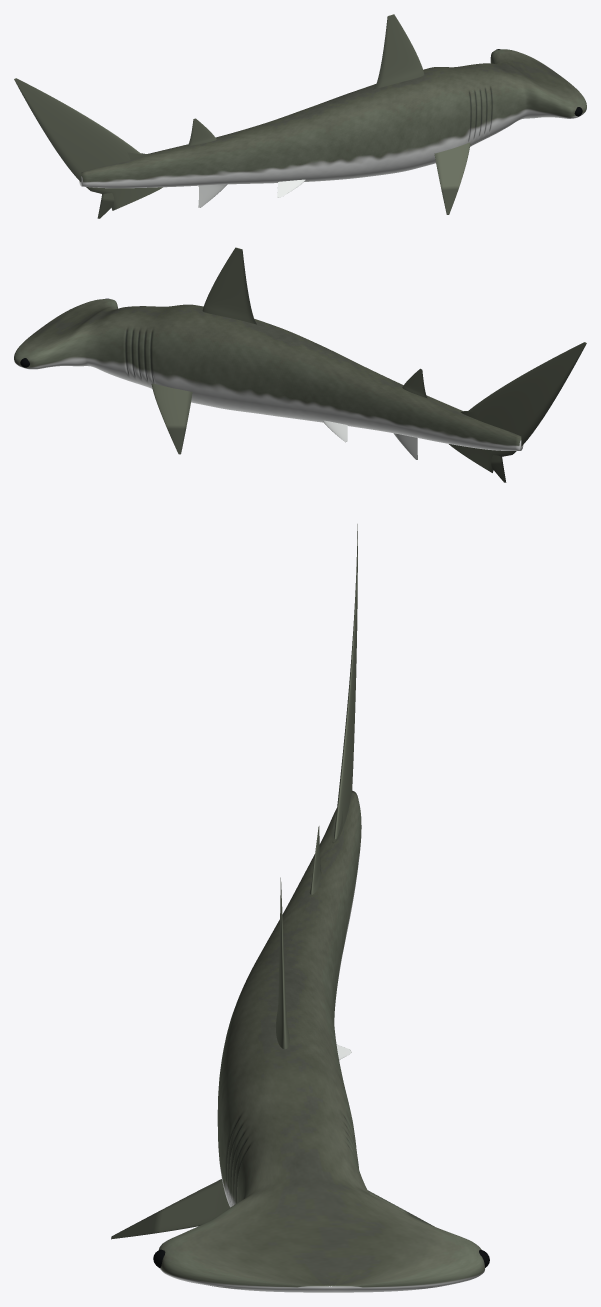
Rendered from smooth_hammerhead.glb.
The picture shows the model from 3 angles, top to bottom: view 1: azimuth 30°, elevation 25°; view 2: azimuth 150°, elevation 25°; view 3: azimuth 270°, elevation 25°; orthographic projection. The views are drawn at different scales.
Parts seen in each view (by area): view 1: SmoothHammerhead_Body, SmoothHammerhead_Fins; view 2: SmoothHammerhead_Body, SmoothHammerhead_Fins; view 3: SmoothHammerhead_Body, SmoothHammerhead_Fins.
Part boxes in pixels (left/top/right/bottom): SmoothHammerhead_Body: left=79, top=49, right=586, bottom=188; SmoothHammerhead_Fins: left=14, top=14, right=470, bottom=218; SmoothHammerhead_Body: left=14, top=299, right=523, bottom=450; SmoothHammerhead_Fins: left=151, top=247, right=586, bottom=482; SmoothHammerhead_Body: left=159, top=790, right=484, bottom=1292; SmoothHammerhead_Fins: left=111, top=524, right=434, bottom=1239.
Bounding box in the file's own units: 3 × 0.9679 × 0.911.
Materials: 3 (1 with a texture image).
